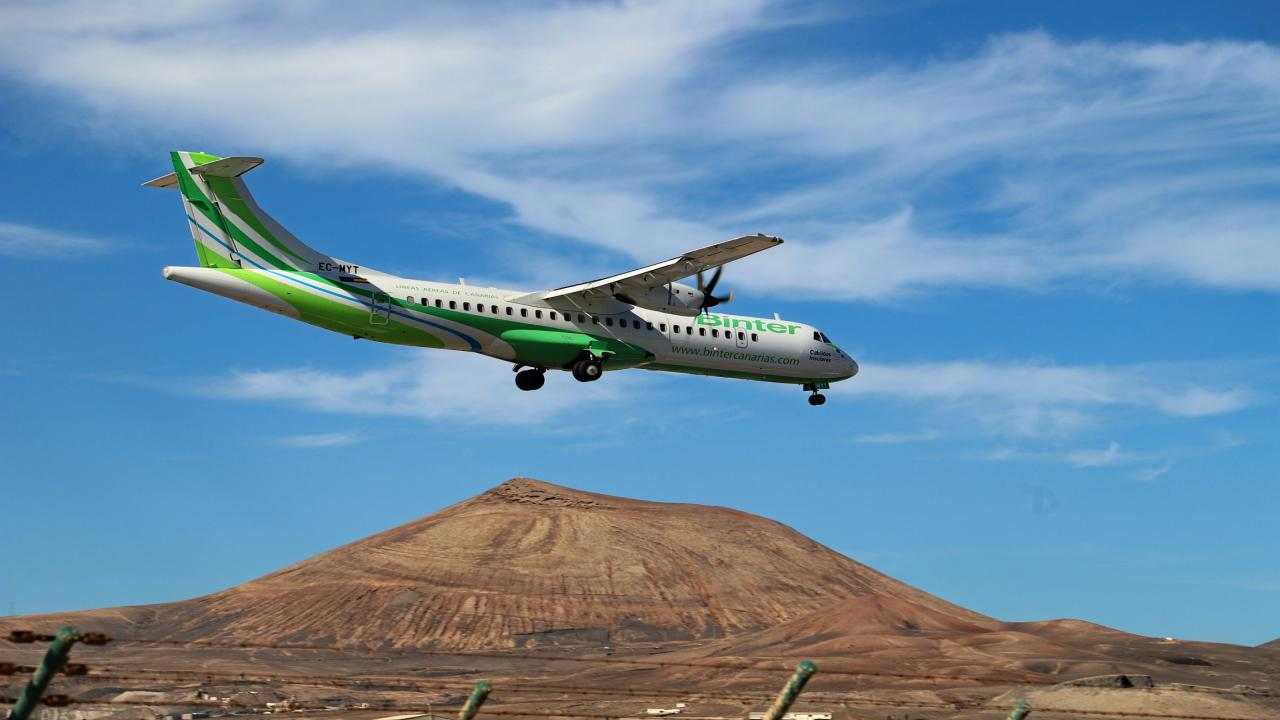Airplane: (128, 133, 878, 424)
